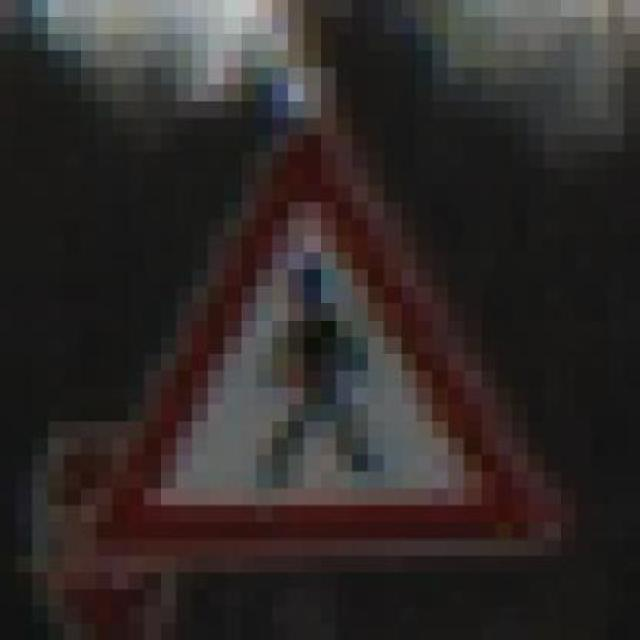Pedestrian Crossing: (67, 84, 579, 556)
